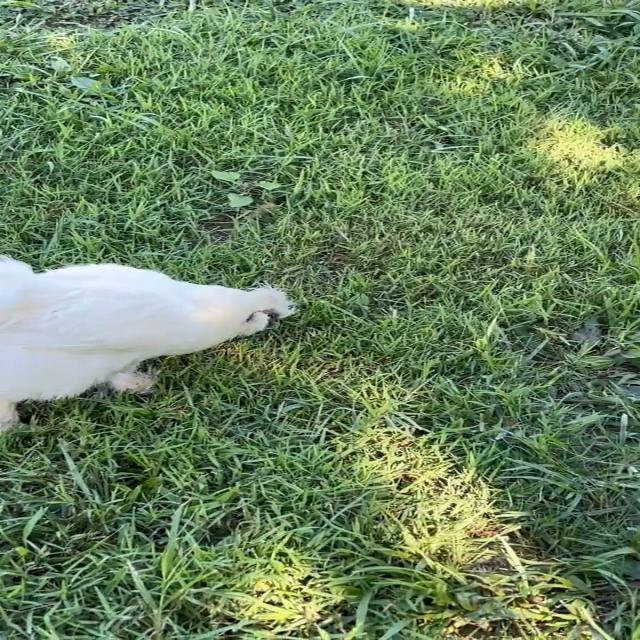feeding: (0, 215, 305, 428)
